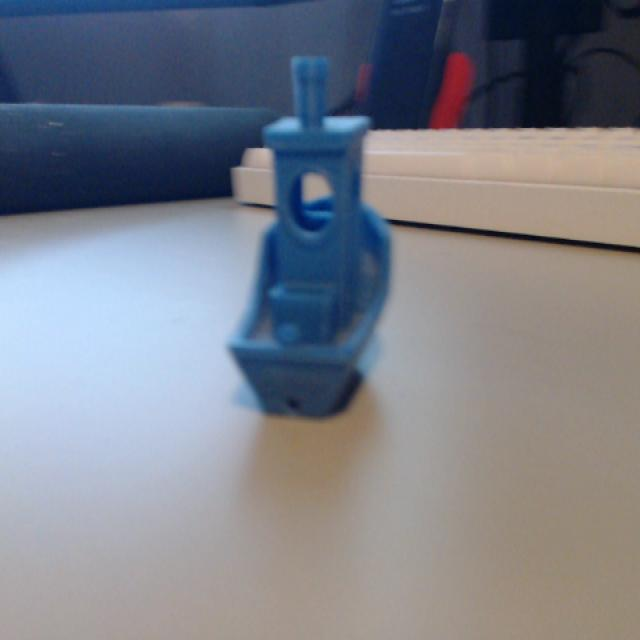benchy: (223, 51, 395, 421)
